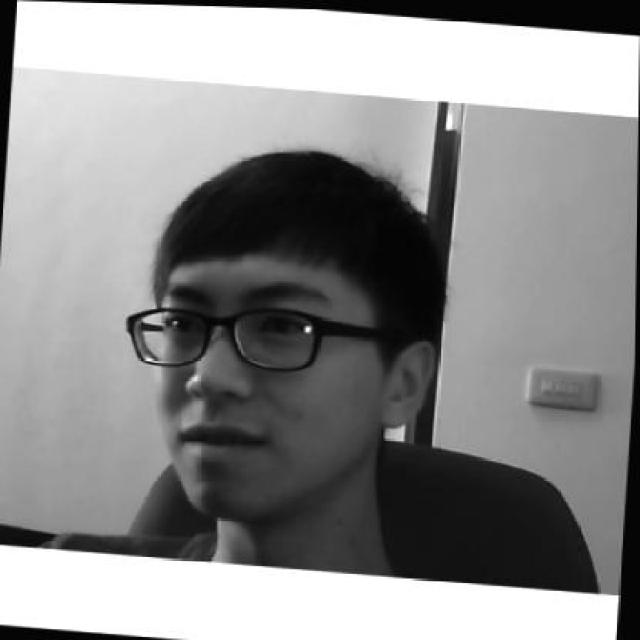attentif: (115, 135, 447, 531)
